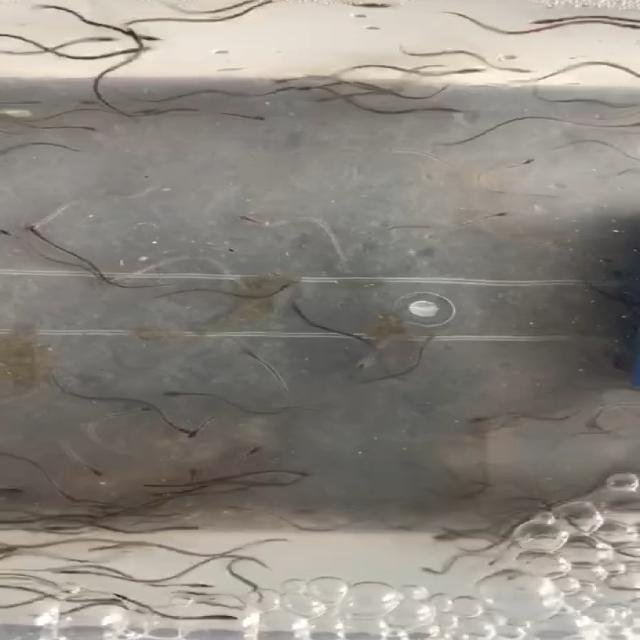active_glass_eel: (472, 208, 522, 225), (8, 98, 56, 114), (114, 40, 161, 56), (587, 117, 640, 131), (185, 421, 220, 442), (0, 503, 36, 523), (350, 350, 381, 373), (232, 443, 273, 460), (421, 529, 469, 543), (159, 384, 192, 404), (162, 520, 202, 536), (117, 30, 170, 42), (48, 482, 78, 503), (48, 566, 100, 578), (414, 562, 453, 578), (212, 606, 246, 624), (263, 81, 301, 97), (464, 493, 495, 512), (467, 408, 495, 429), (365, 0, 407, 14), (268, 280, 302, 297), (523, 14, 559, 30), (310, 96, 354, 109), (214, 501, 249, 517), (81, 462, 109, 482), (228, 208, 262, 224), (84, 539, 120, 554), (489, 435, 518, 453), (190, 2, 230, 15), (430, 101, 473, 113), (171, 589, 205, 604), (23, 218, 53, 234), (23, 227, 57, 241), (166, 419, 194, 436), (506, 158, 542, 171), (452, 64, 481, 80), (284, 464, 317, 478), (241, 342, 264, 362), (90, 272, 122, 286), (184, 577, 217, 590), (265, 75, 304, 86), (124, 403, 152, 418), (234, 112, 272, 123), (48, 523, 82, 535), (99, 30, 126, 44), (504, 65, 538, 76), (0, 230, 22, 246), (613, 21, 640, 33), (73, 123, 100, 134)
